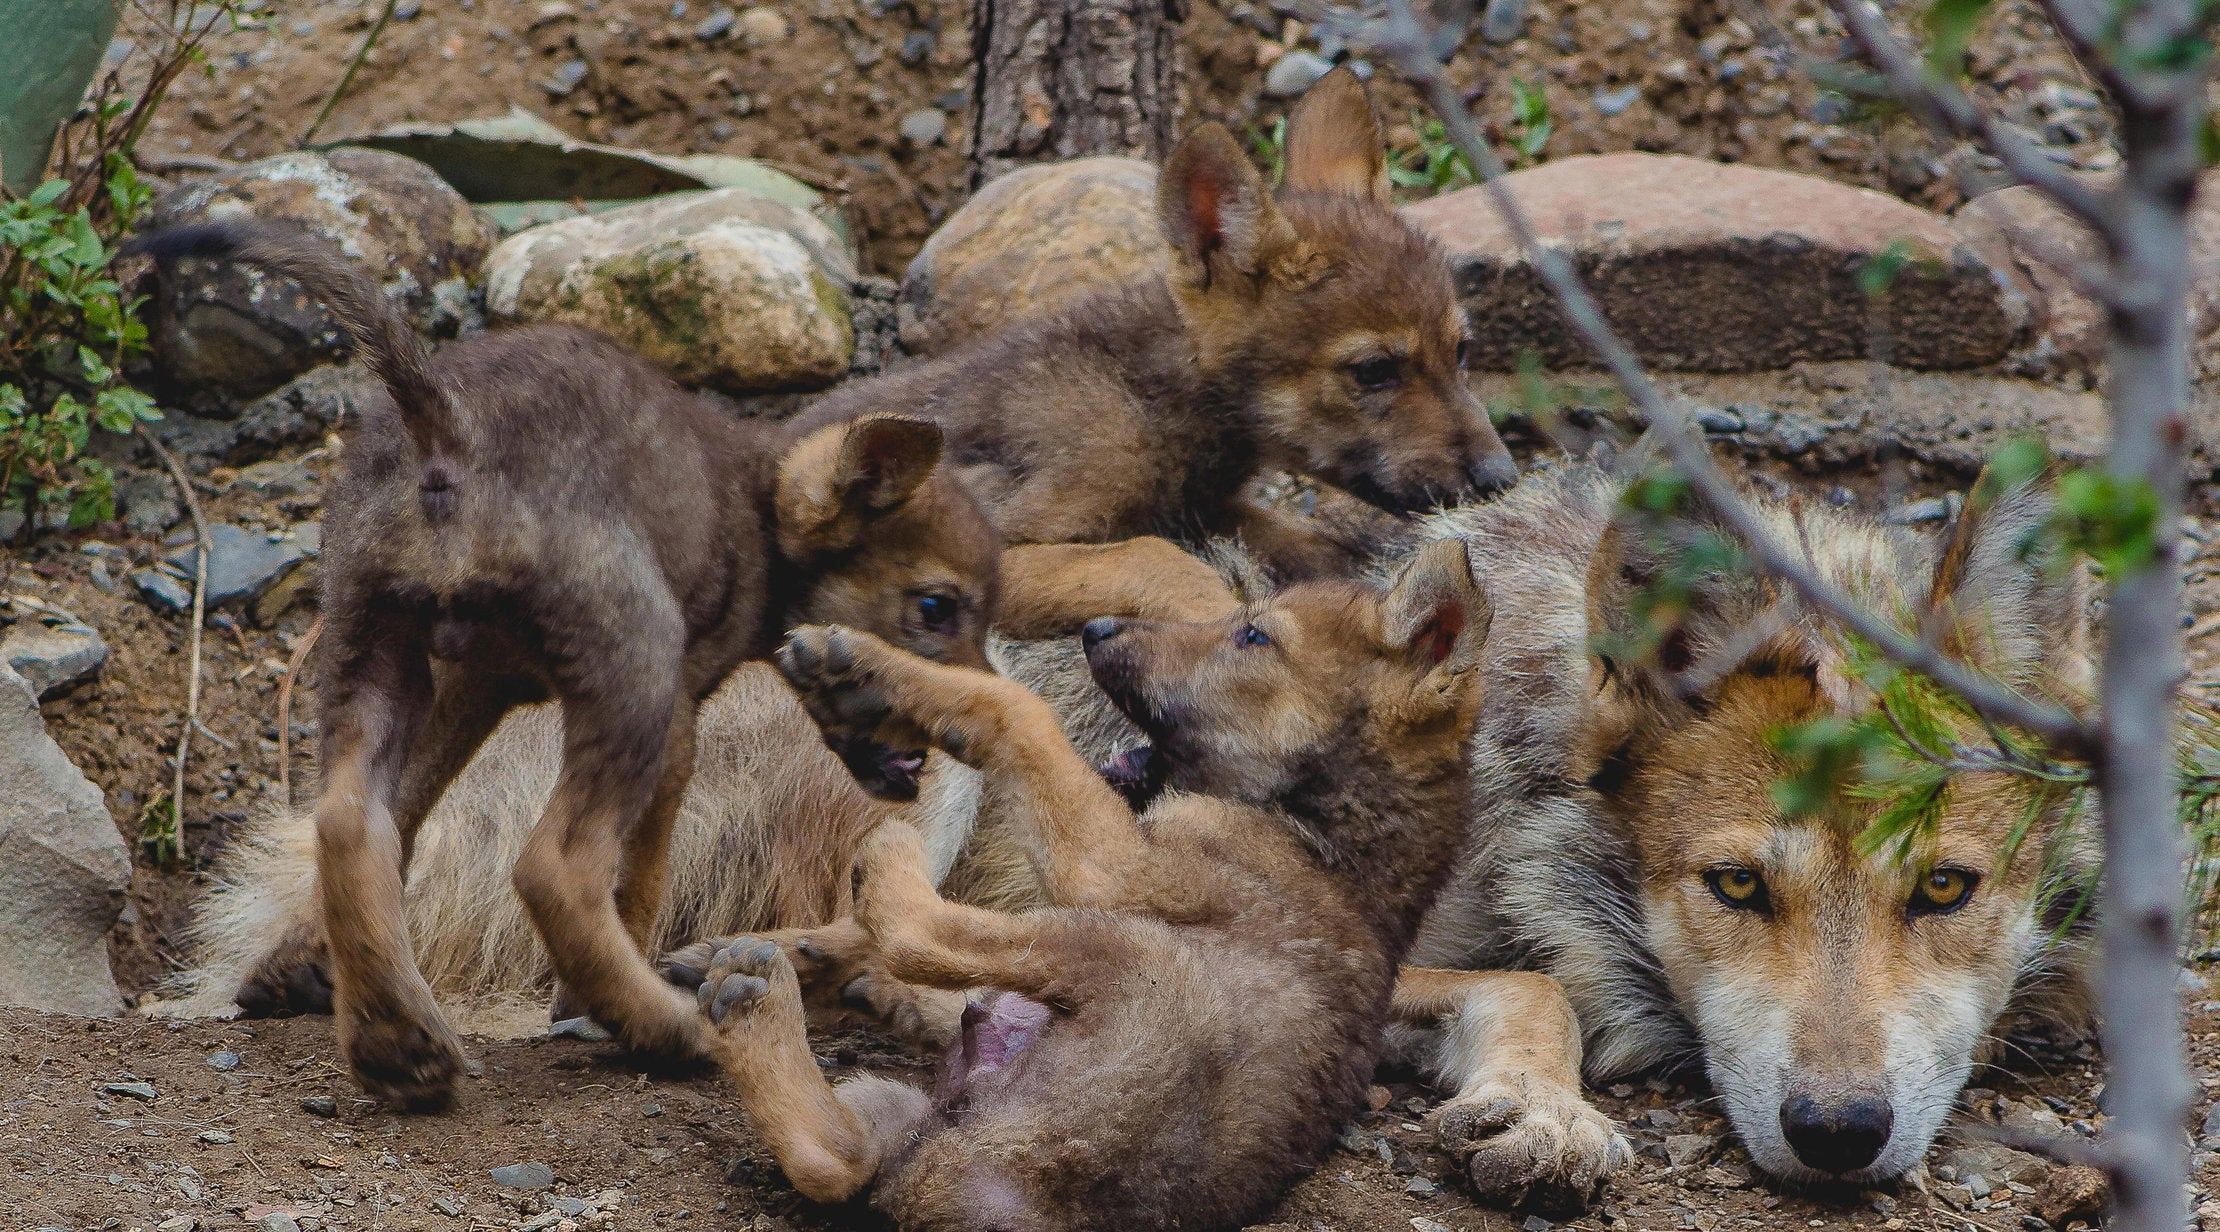Lobo: (265, 343, 961, 1009), (1569, 432, 2061, 1196), (1022, 586, 1527, 983), (855, 214, 1488, 514)
